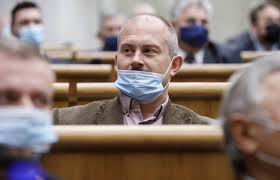mask_weared_incorrect: (115, 28, 185, 105)
